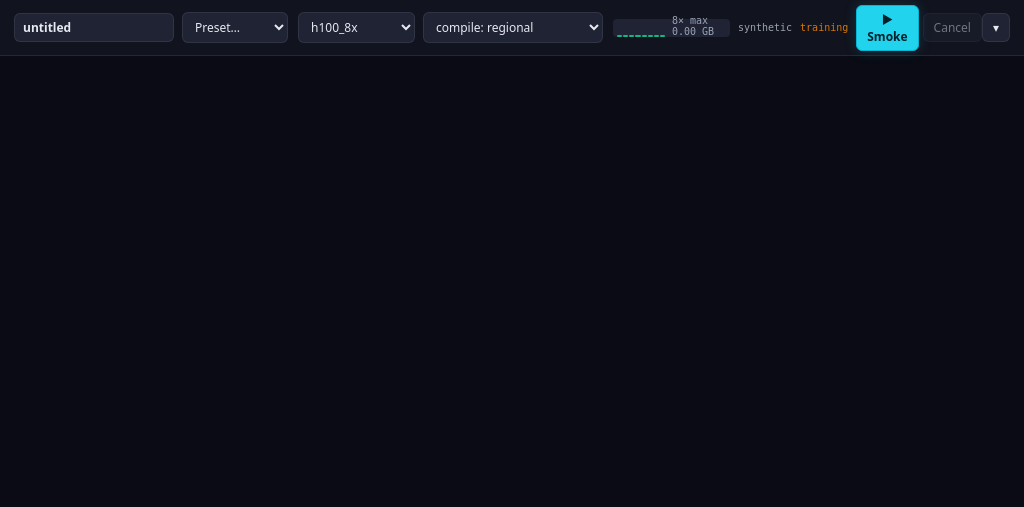
Test: TopBar › H22: trainInFlight disables Train button + shows Training… label
Click the button with test id "run-pipeline-toggle" at (996, 28), box [982,13,1010,42]
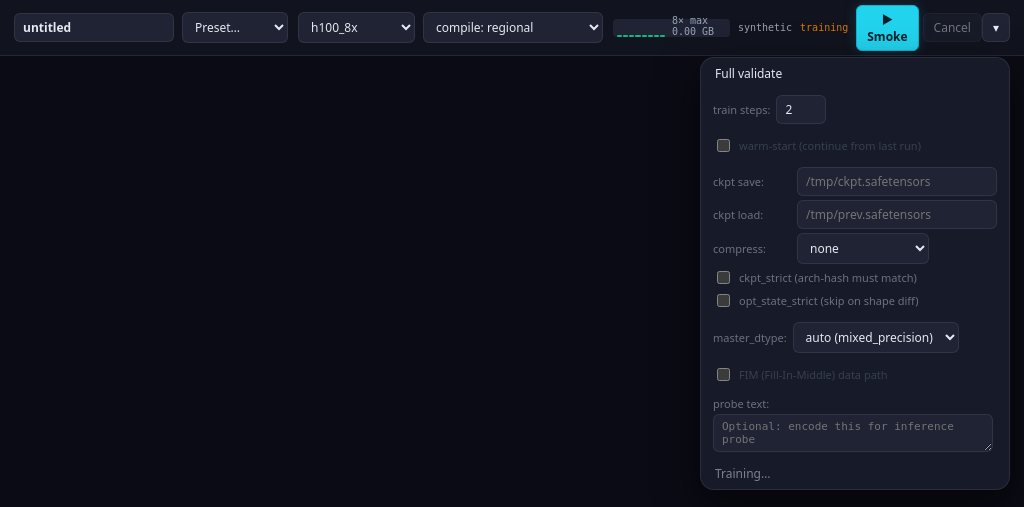
Expected: the button with test id "run-pipeline-train" is disabled, [701,458,1009,488]
Expected: the button with test id "run-pipeline-train" shows "Training", [701,458,1009,488]
